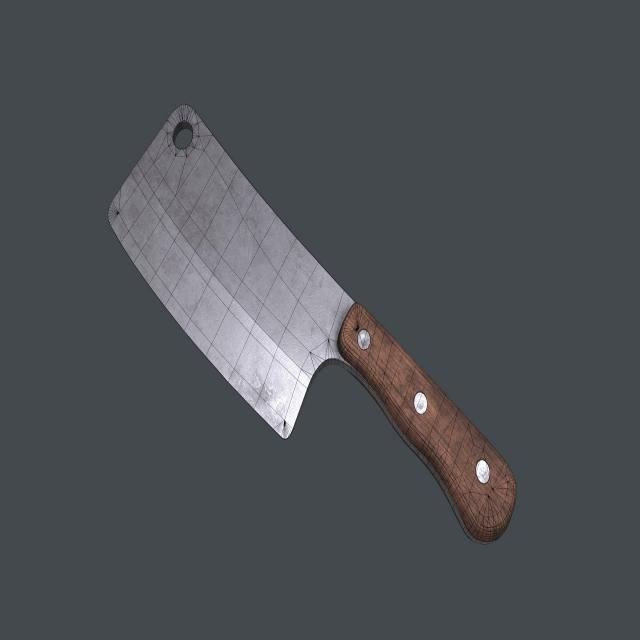cleaver: (108, 105, 516, 546)
